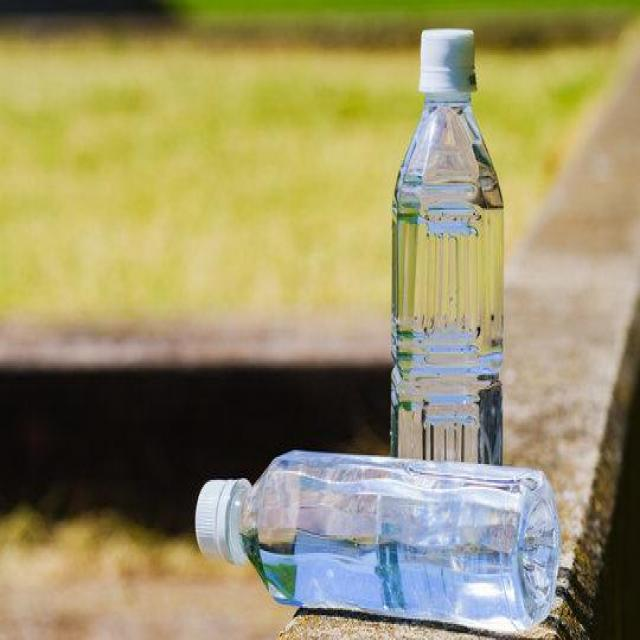bottle: (189, 453, 561, 638), (377, 4, 518, 466)
